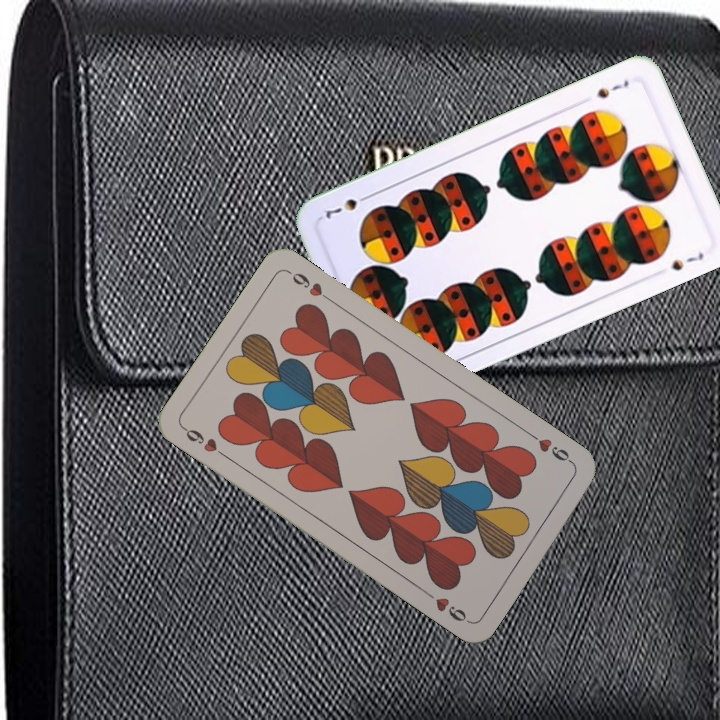H9: (179, 422, 231, 461), (525, 429, 577, 468)
S7: (592, 75, 632, 101)
